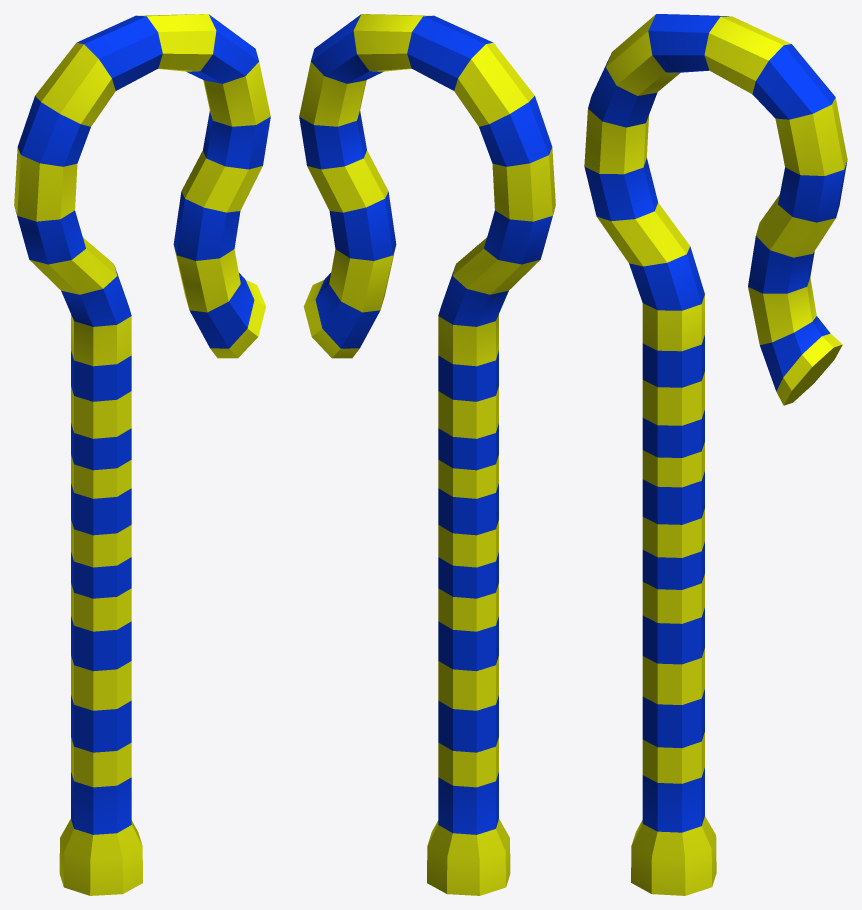
The model's file is crook.obj.
3 renders of one model, left to right at view 1: azimuth 30°, elevation 25°; view 2: azimuth 150°, elevation 25°; view 3: azimuth 330°, elevation 25°, orthographic. The views are drawn at different scales.
Parts seen in each view (by area): view 1: crook; view 2: crook; view 3: crook.
Part boxes in pixels (x1,y1,x2,y2): crook: (14,14,270,895); crook: (299,14,555,895); crook: (584,14,847,895).
Bounding box in the file's own units: 1.83 × 5.95 × 0.5481.
Materials: 1 (1 with a texture image).
